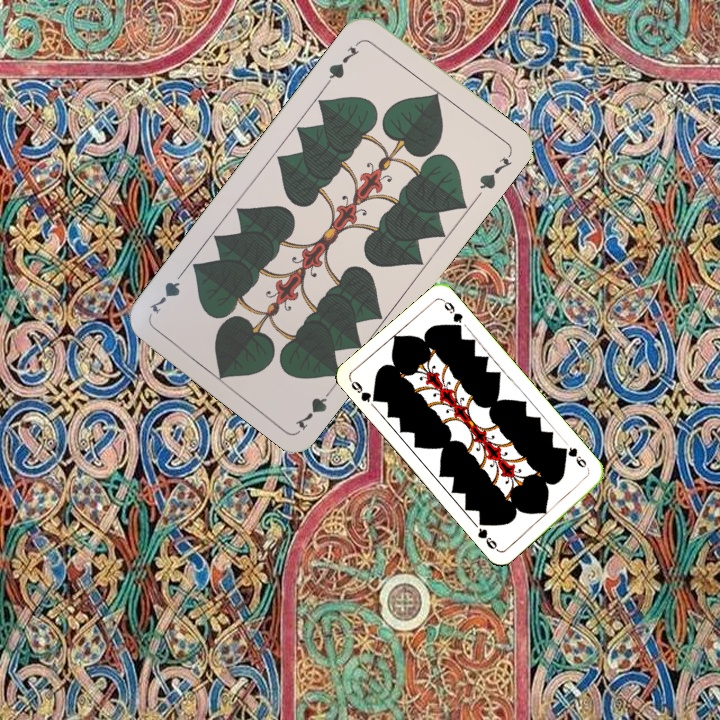G7: (291, 381, 338, 433), (323, 36, 364, 87)
G9: (558, 442, 592, 474), (346, 376, 382, 405)
